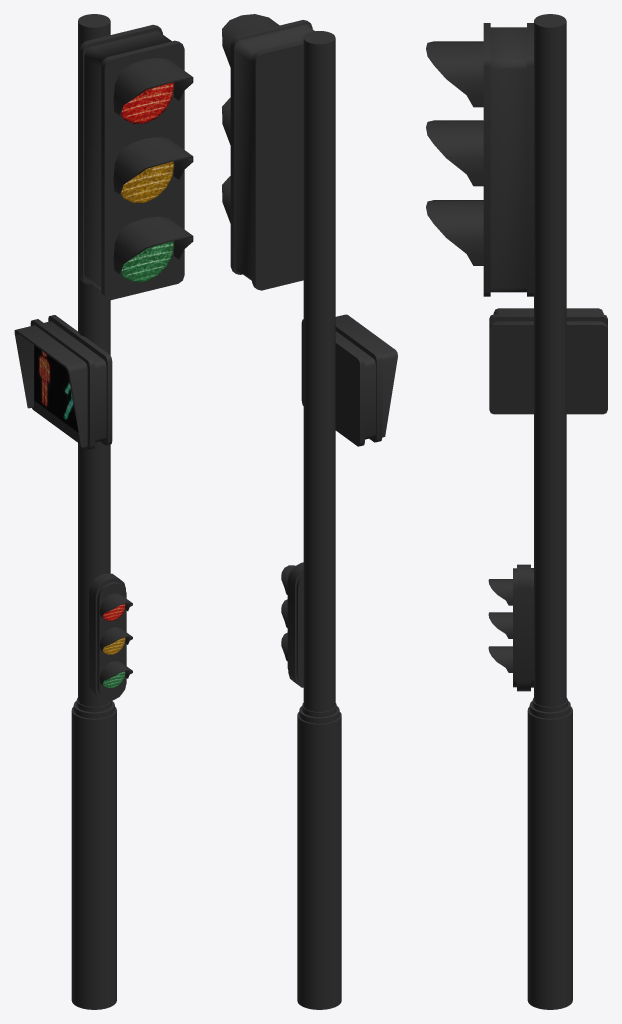
The model's file is feu-de-signalisation-simple.glb.
3 renders of one model, left to right at view 1: azimuth 30°, elevation 25°; view 2: azimuth 210°, elevation 25°; view 3: azimuth 270°, elevation 25°, orthographic.
Size of the model in its own units: 37.51 by 317 by 53.26.
Materials: 2 (1 with a texture image).
